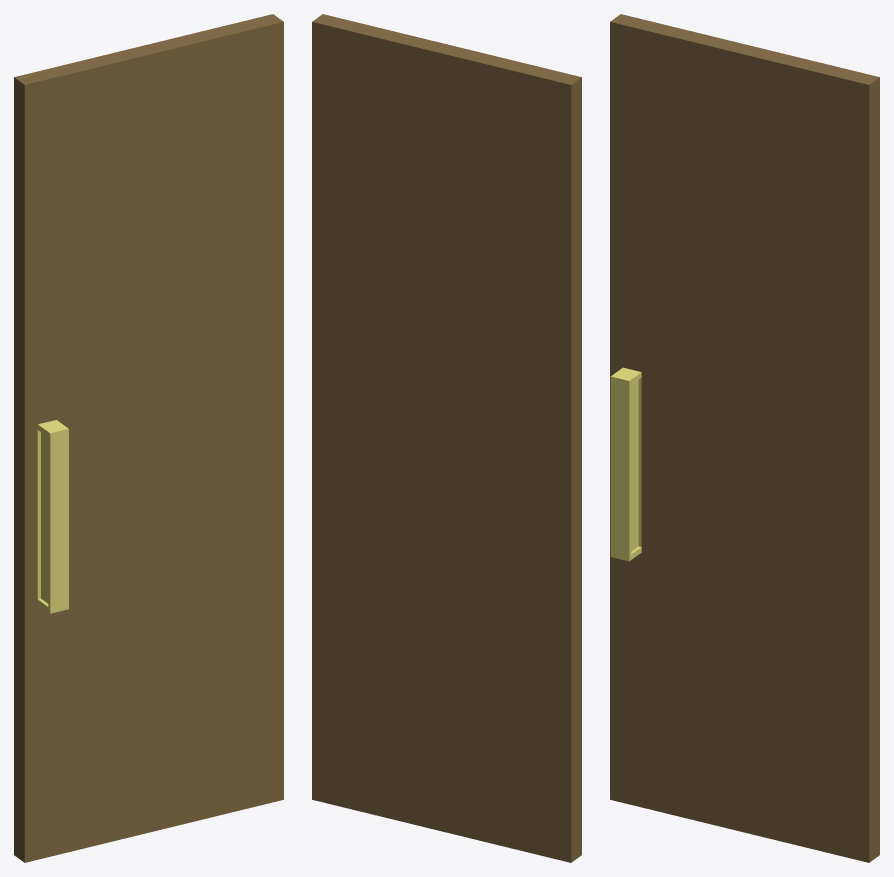
Rendered from Itr_Wardrobe3_Door_Right_01.FBX.
3 views of the same model, side by side, from view 1: azimuth 30°, elevation 25°; view 2: azimuth 150°, elevation 25°; view 3: azimuth 330°, elevation 25° (orthographic).
Visible parts, largest first — view 1: Itr_Wardrobe3_Door_Right_01; view 2: Itr_Wardrobe3_Door_Right_01; view 3: Itr_Wardrobe3_Door_Right_01.
Part boxes in pixels (x1,y1,x2,y2): Itr_Wardrobe3_Door_Right_01: [14, 14, 283, 862]; Itr_Wardrobe3_Door_Right_01: [312, 14, 581, 862]; Itr_Wardrobe3_Door_Right_01: [610, 14, 879, 862].
Size of the model in its own units: 20.07 by 57.59 by 3.1.
